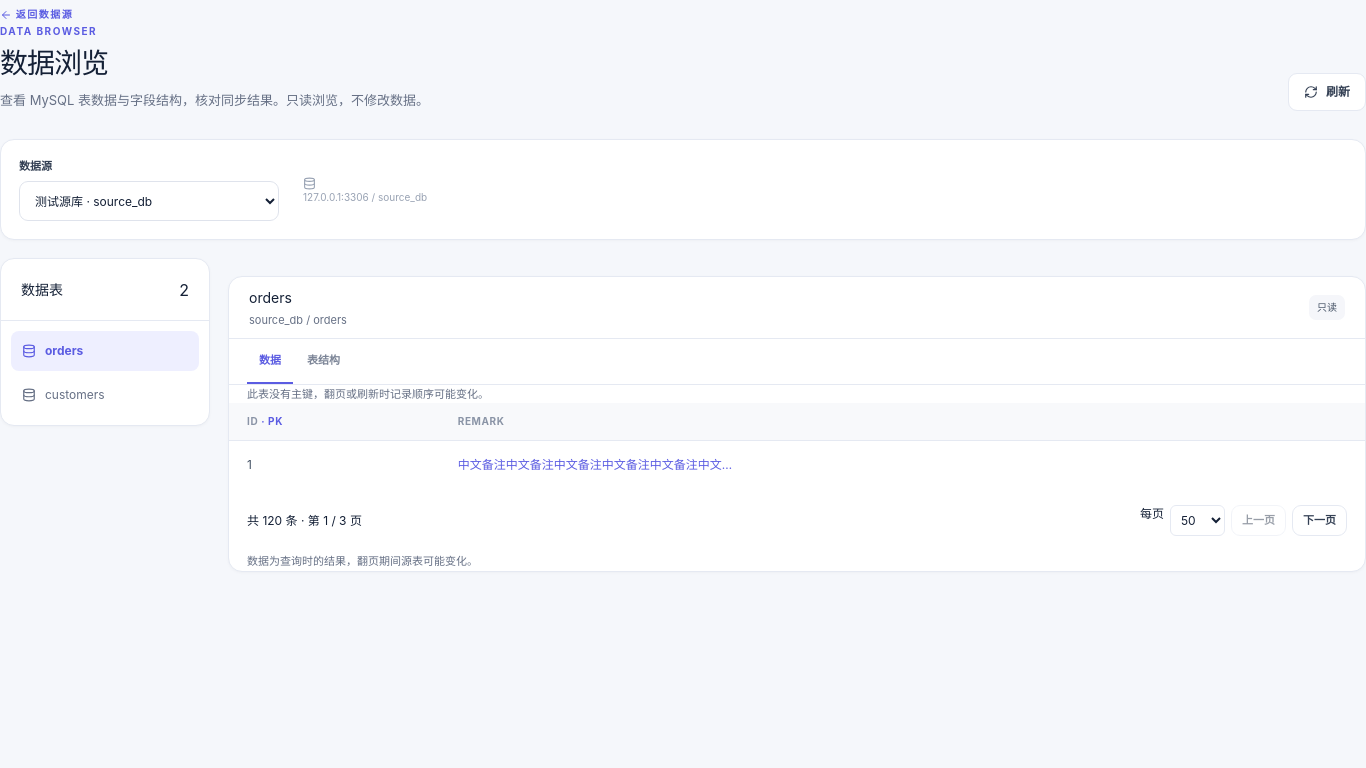
Test case: DataBrowser › expands long content and warns for tables without primary keys
The width and height of the screenshot is (1366, 768).
Click the button with aria-label "展开 remark 第 1 行". click: click(598, 465)
box: [458, 456, 738, 474]
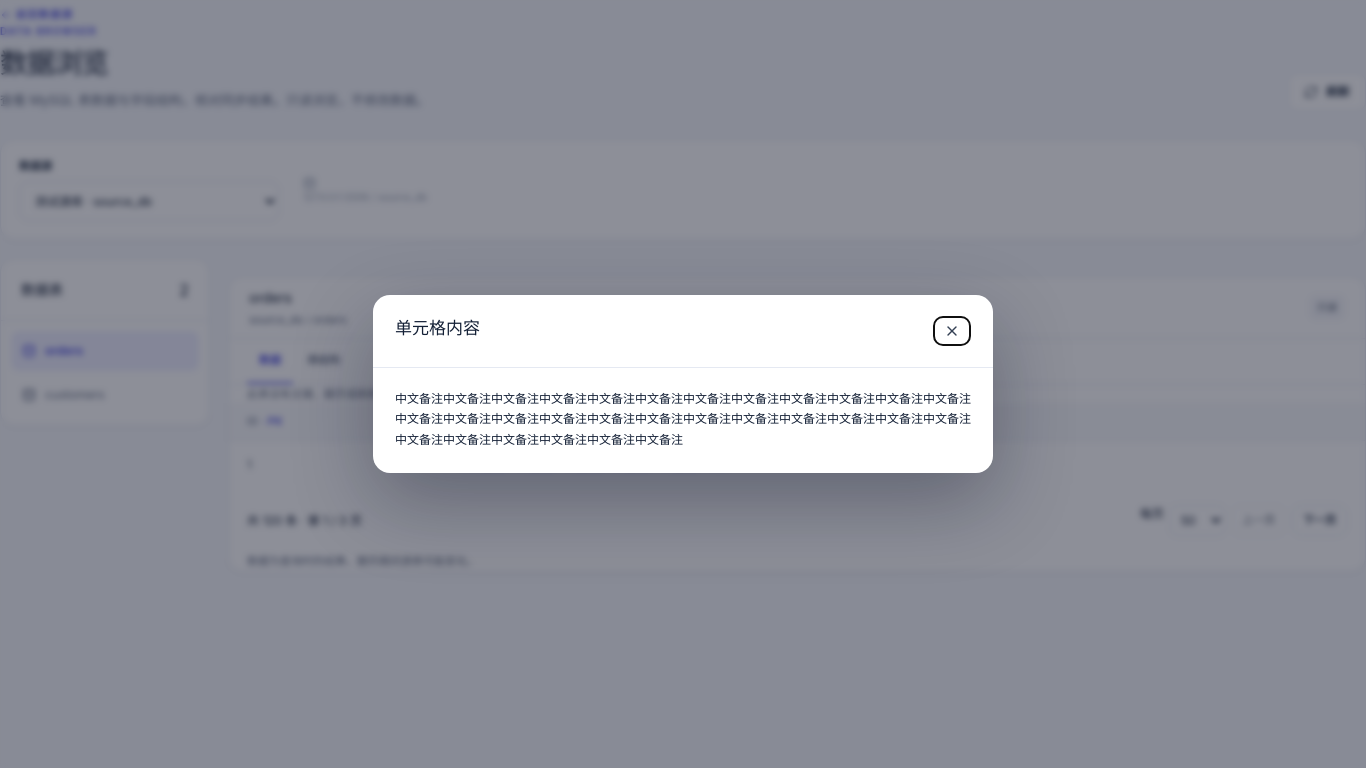
Check: the text "此表没有主键，翻页或刷新时记录顺序可能变化。" is shown, box [247, 386, 489, 400]
Press Escape
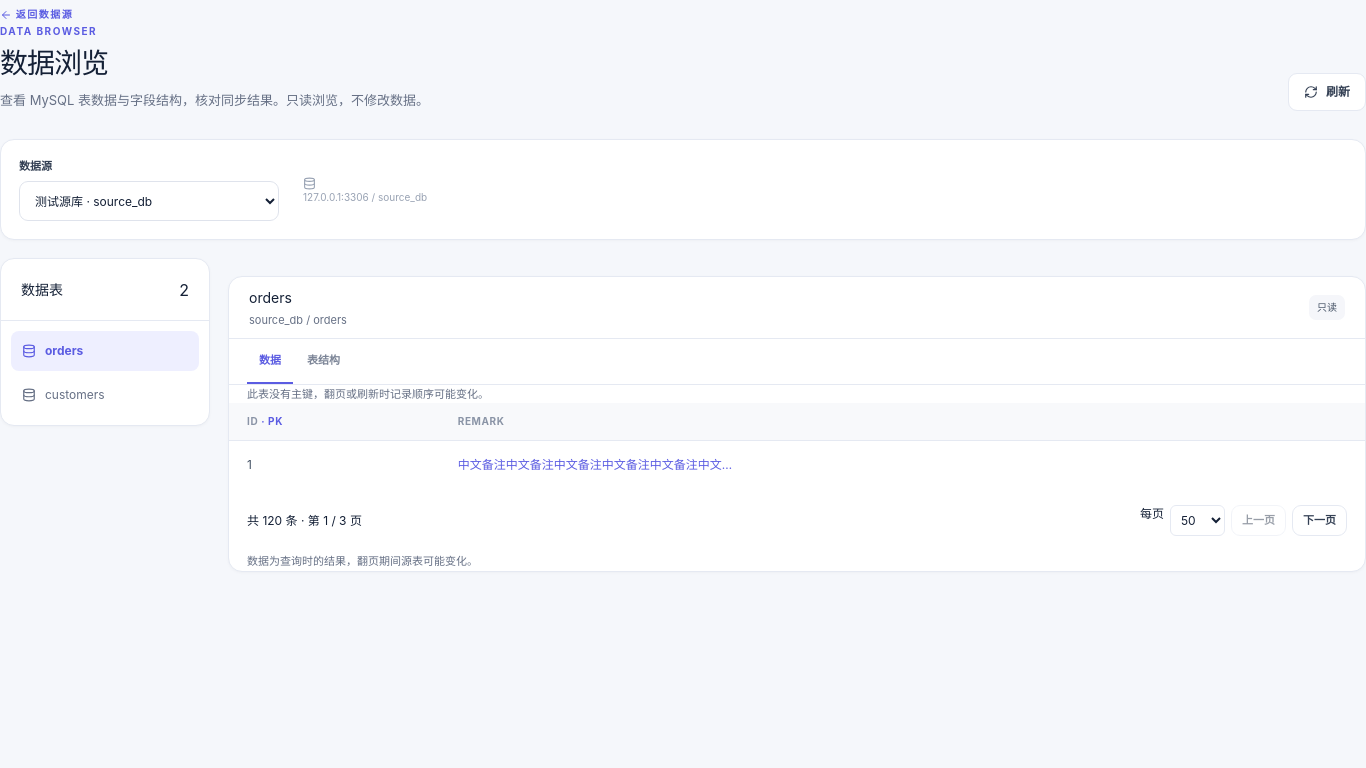
Check: the dialog is gone
